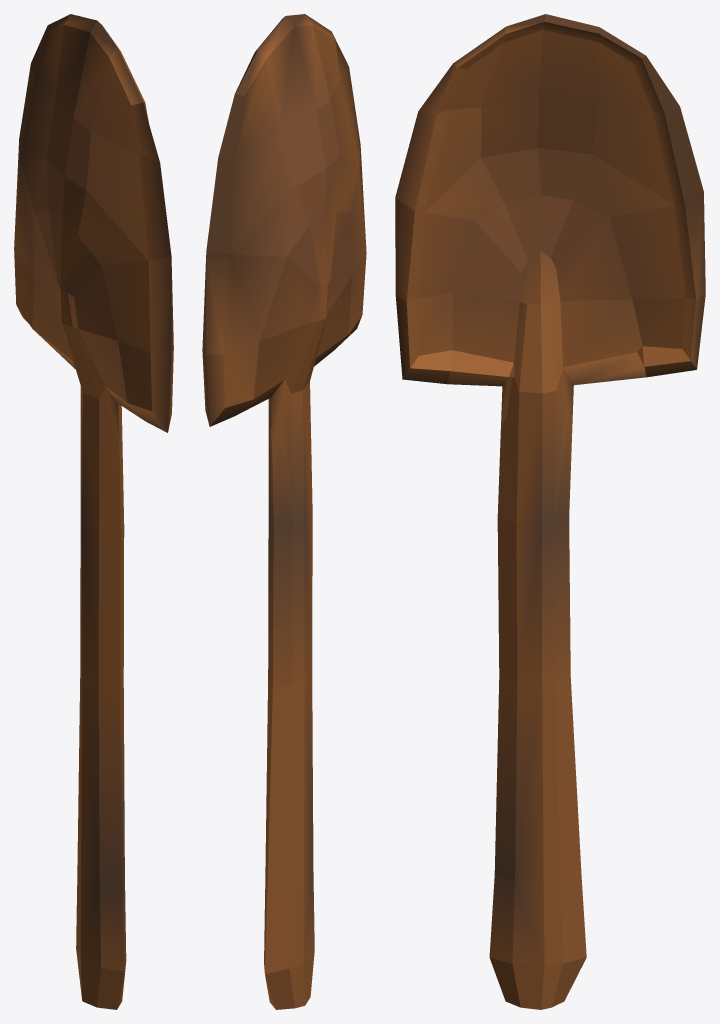
Rendered from woodenShovel.fbx.
3 views of the same model, side by side, from view 1: azimuth 30°, elevation 25°; view 2: azimuth 150°, elevation 25°; view 3: azimuth 270°, elevation 25° (orthographic).
Visible parts, largest first — view 1: Plane.003; view 2: Plane.003; view 3: Plane.003.
Part boxes in pixels (<box>): Plane.003: <box>14,14,173,1009</box>; Plane.003: <box>202,14,366,1009</box>; Plane.003: <box>395,14,705,1009</box>.
Bounding box in the file's own units: 32.99 × 545 × 155.
